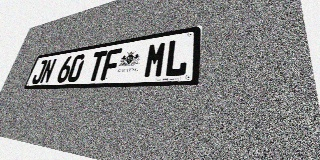0: (66, 54, 86, 82)
6: (55, 55, 75, 83)
F: (100, 48, 122, 81)
J: (31, 60, 48, 84)
L: (163, 37, 189, 77)
M: (143, 41, 168, 78)
N: (39, 58, 57, 84)
T: (86, 50, 108, 81)
